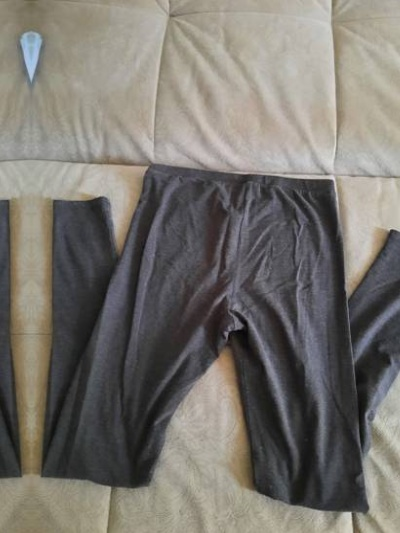Pants: (31, 138, 400, 513), (0, 139, 31, 513)
